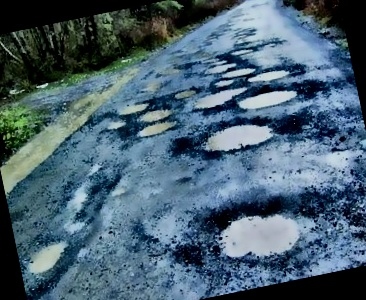pothole: (200, 192, 305, 271), (197, 115, 277, 157), (21, 237, 71, 275), (234, 84, 301, 112), (132, 117, 179, 139), (244, 65, 290, 86), (218, 63, 258, 81), (137, 106, 171, 124), (115, 99, 149, 116), (202, 60, 238, 75), (171, 86, 199, 100), (229, 45, 254, 58), (104, 117, 128, 130)
